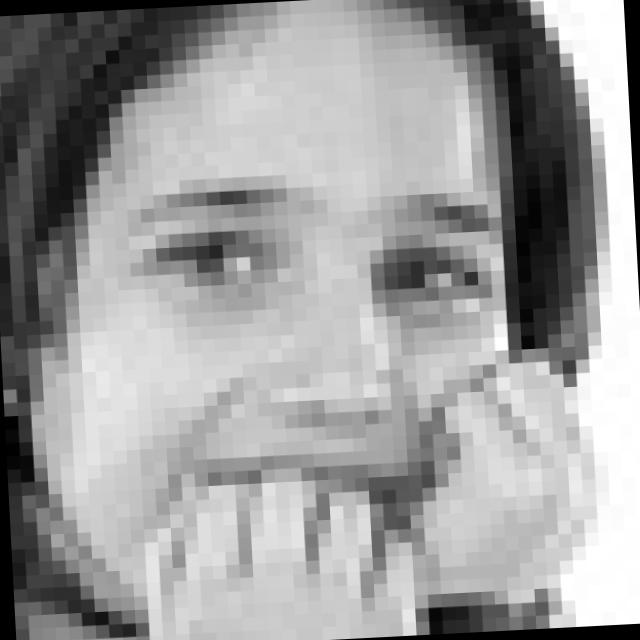fear: (112, 168, 517, 574)
